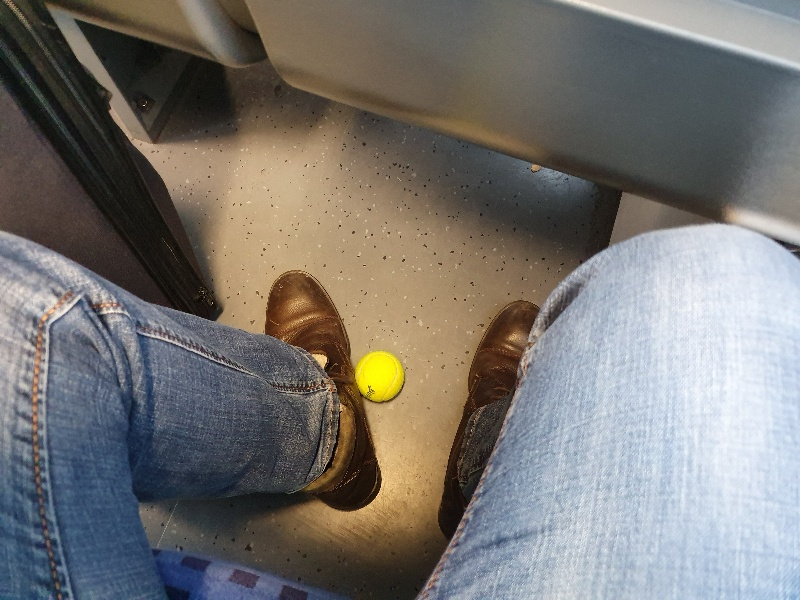Tennisball: (343, 348, 417, 411)
